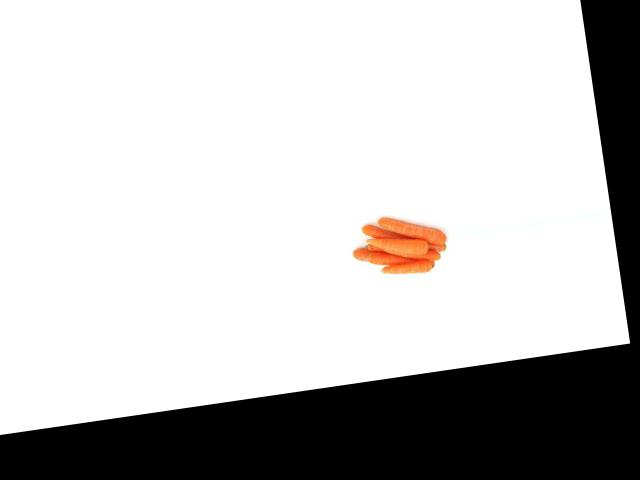carrot: (378, 206, 452, 254)
